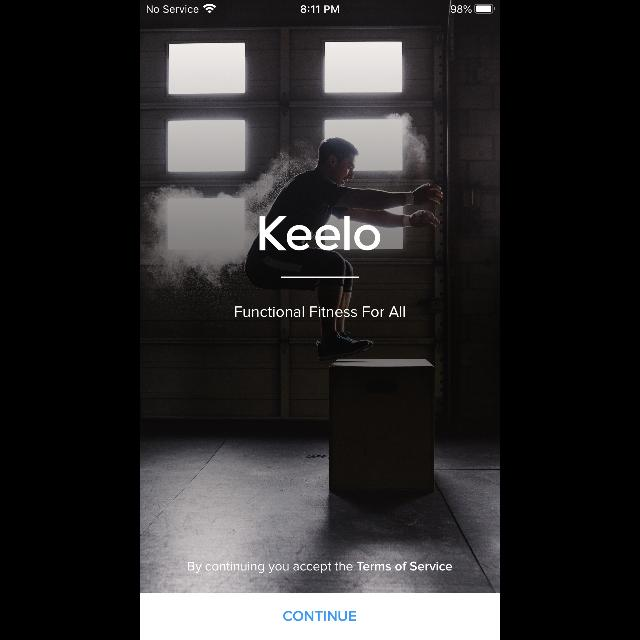backgroundimage: (140, 1, 500, 593)
text: (260, 216, 380, 250), (188, 562, 452, 572), (236, 307, 404, 317)
textbutton: (140, 594, 500, 640)
uppertaskbar: (140, 0, 500, 14)
